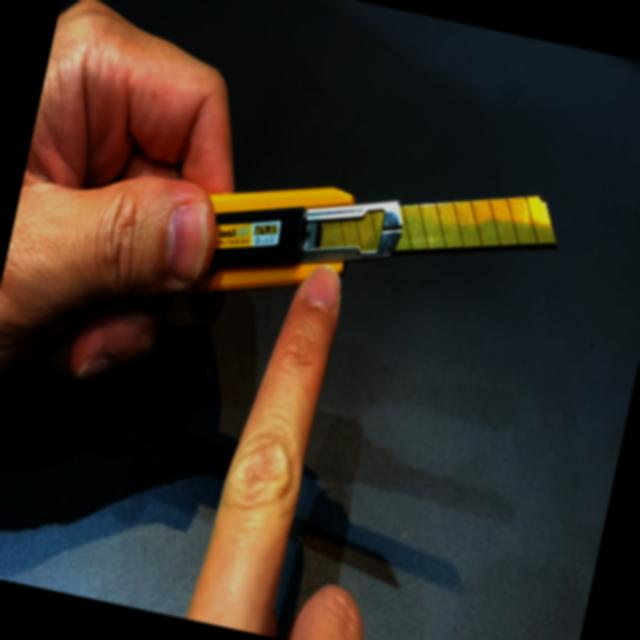cutter: (0, 28, 613, 570)
